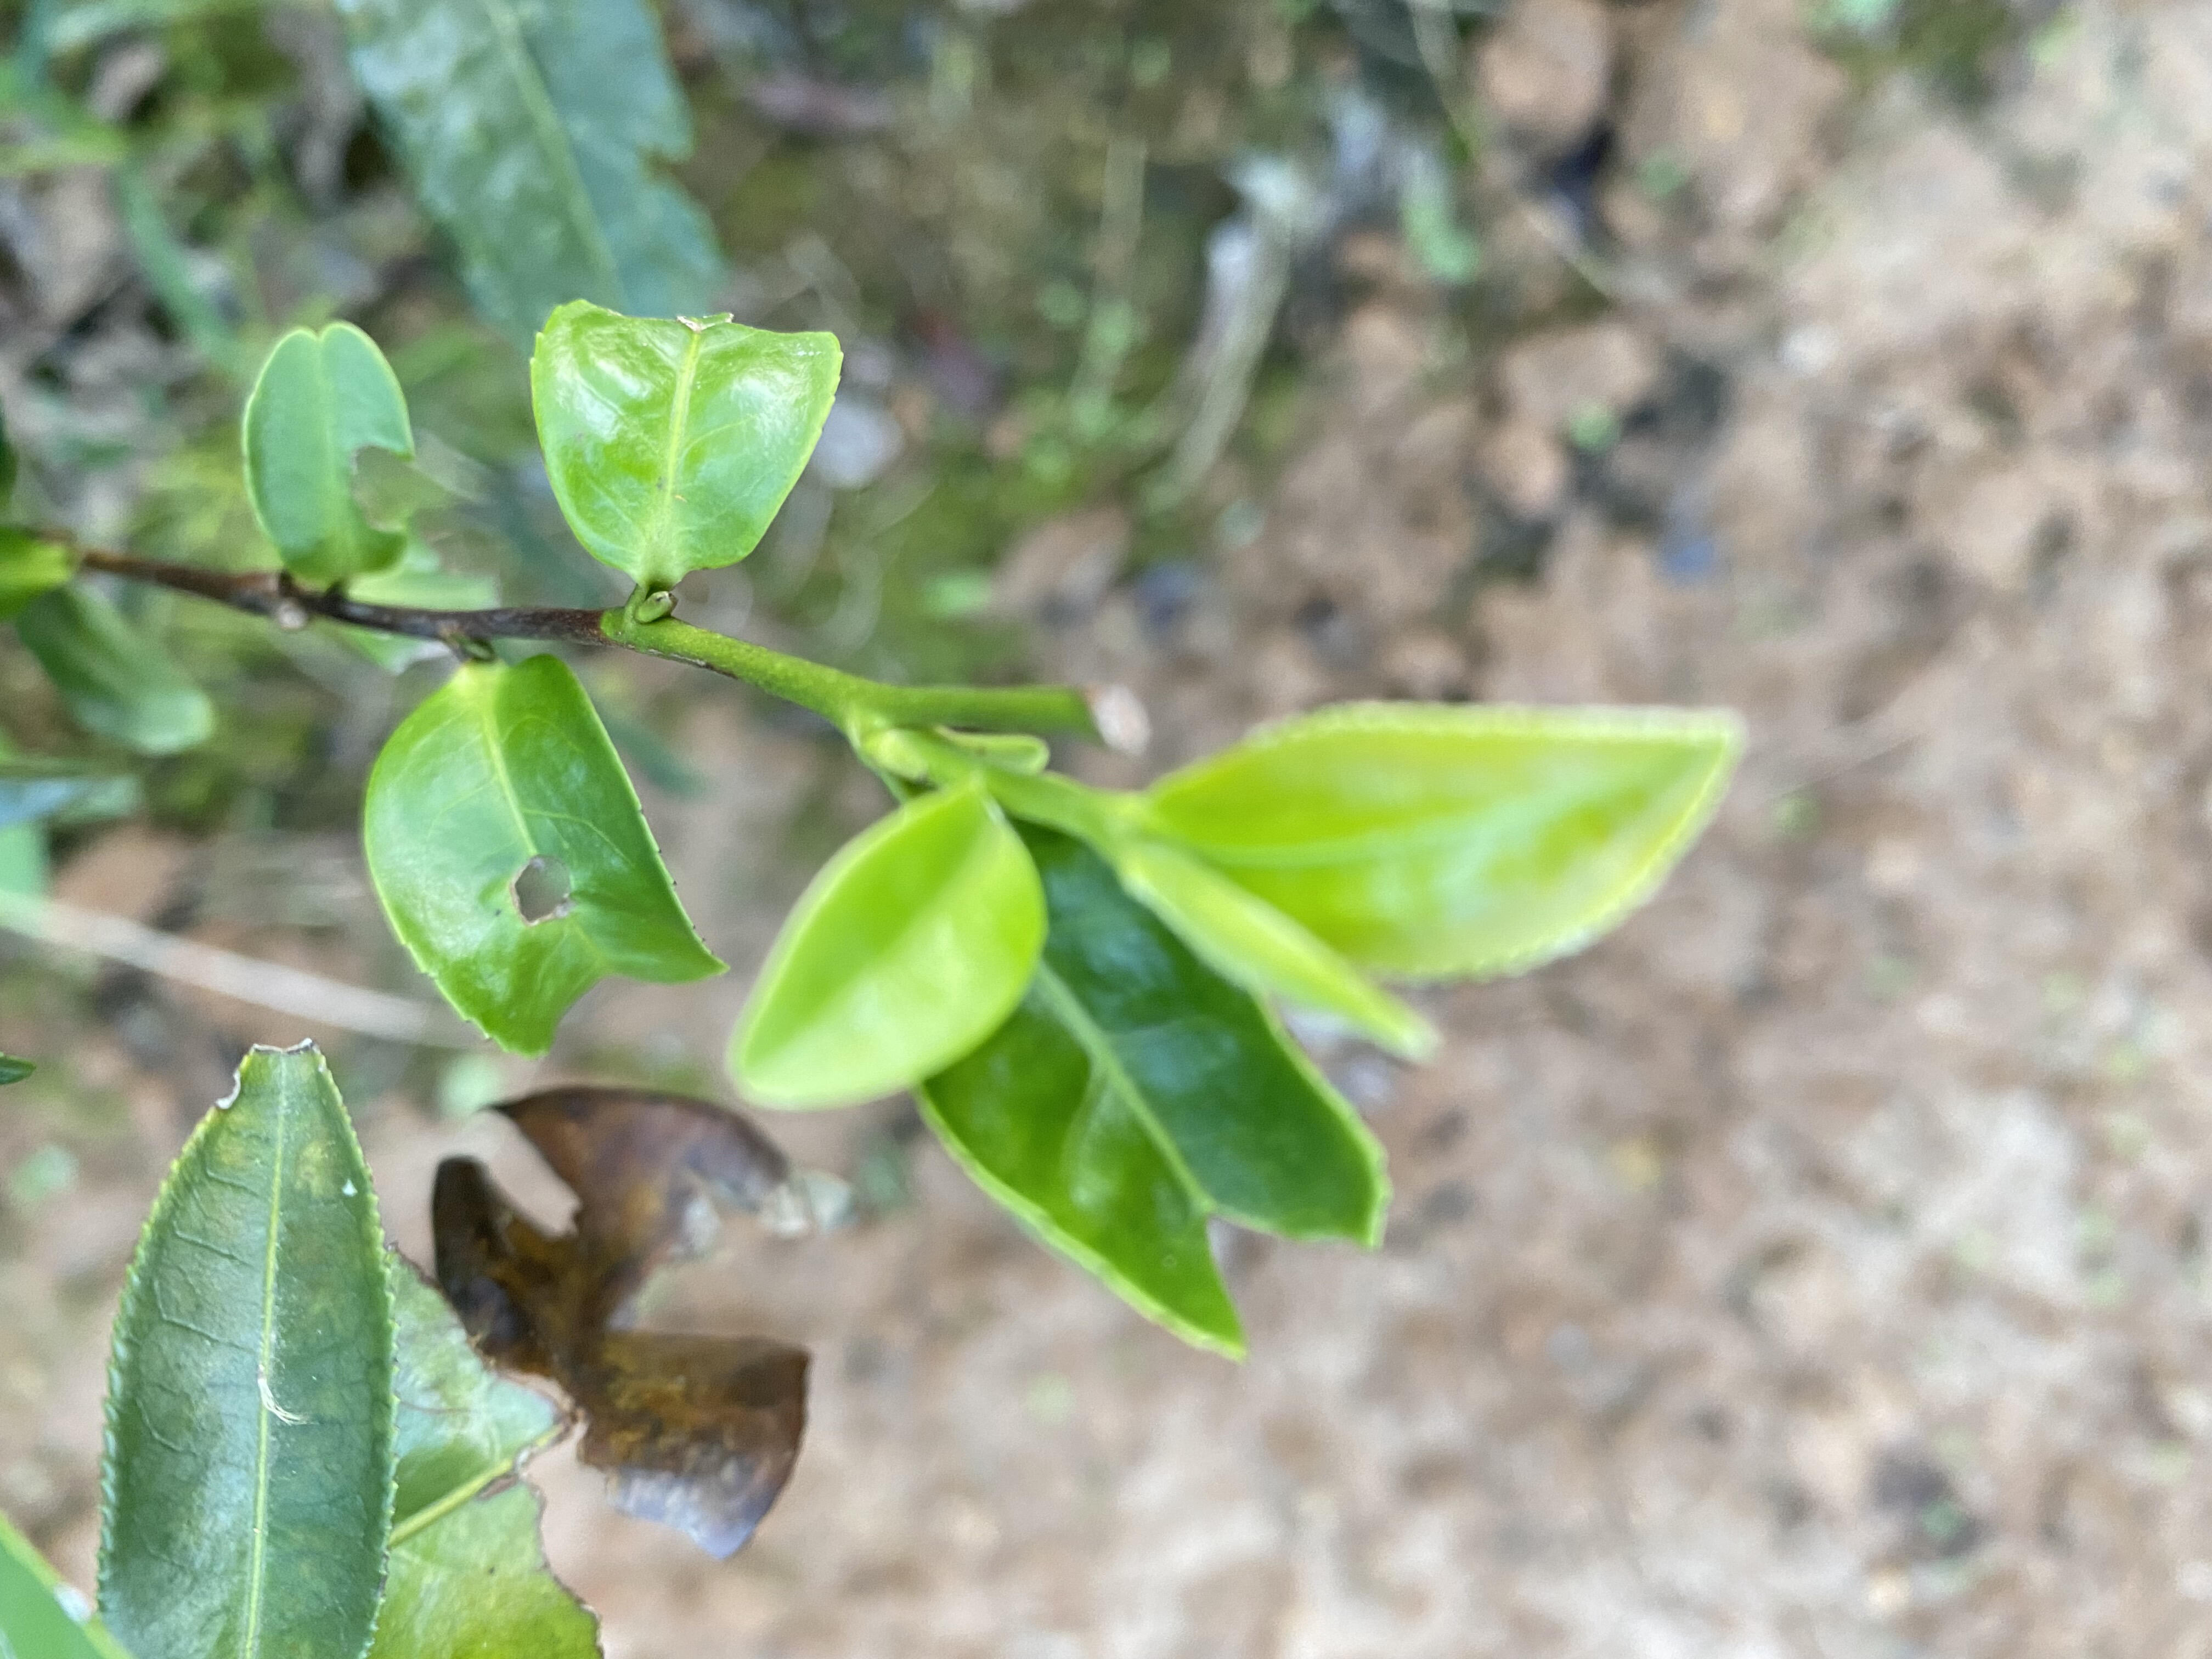chihuo_high: (528, 296, 846, 587)
chihuo_low: (918, 817, 1393, 1364), (92, 1039, 401, 1659), (361, 650, 728, 1054), (239, 322, 416, 582)
healthy: (1141, 697, 1749, 988), (725, 765, 1045, 1115)
